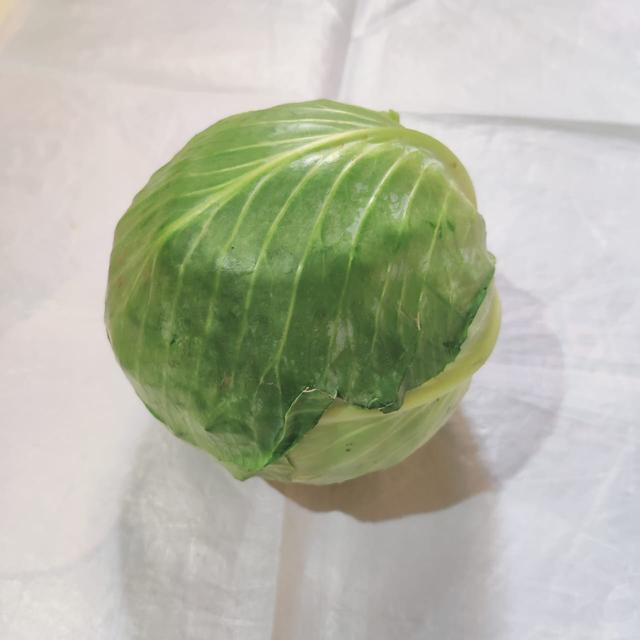Organik: (69, 74, 543, 519)
